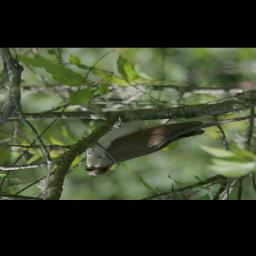Cuckoo: (85, 111, 256, 177)
